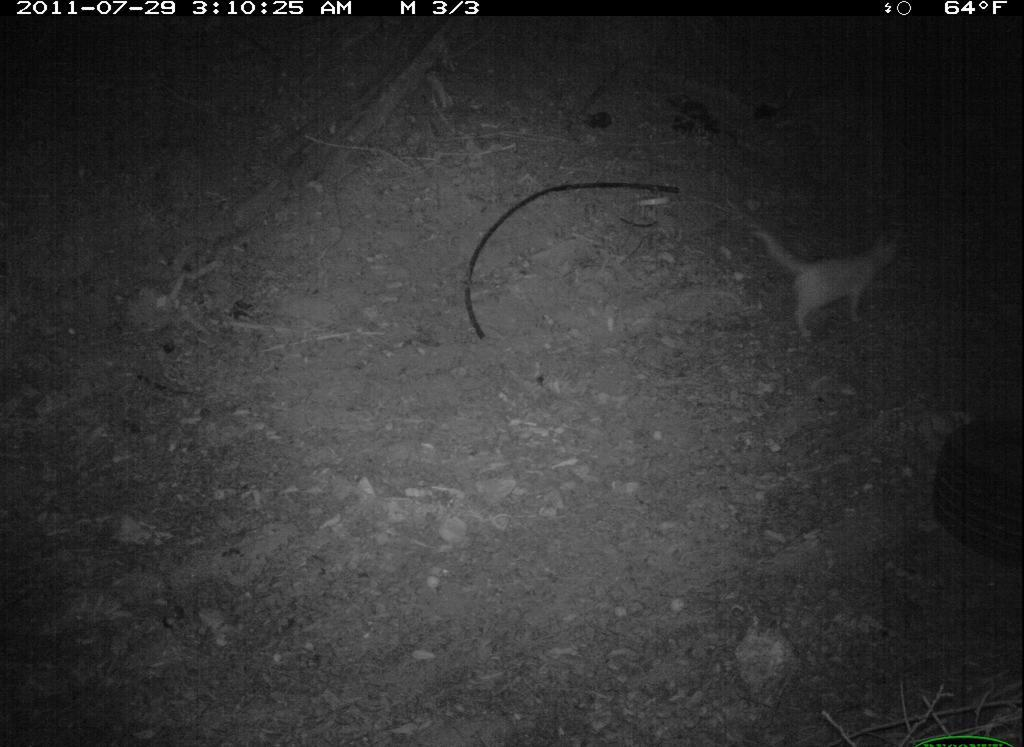cat: (748, 223, 905, 340)
